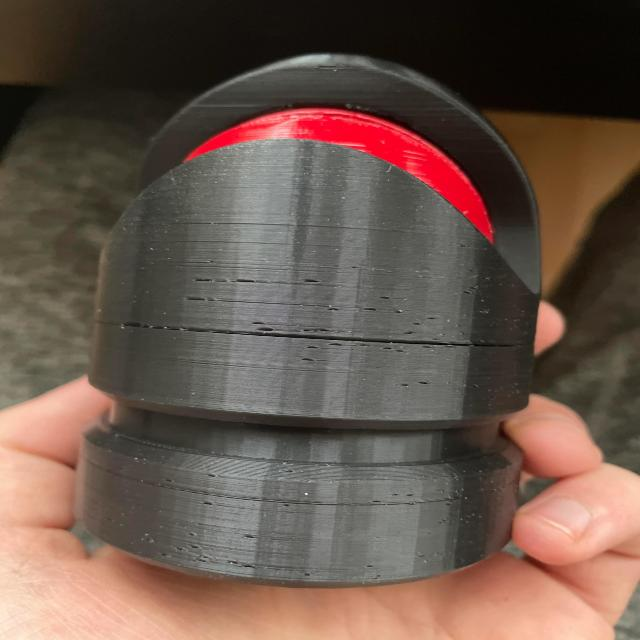spaghetti: (92, 307, 529, 364)
